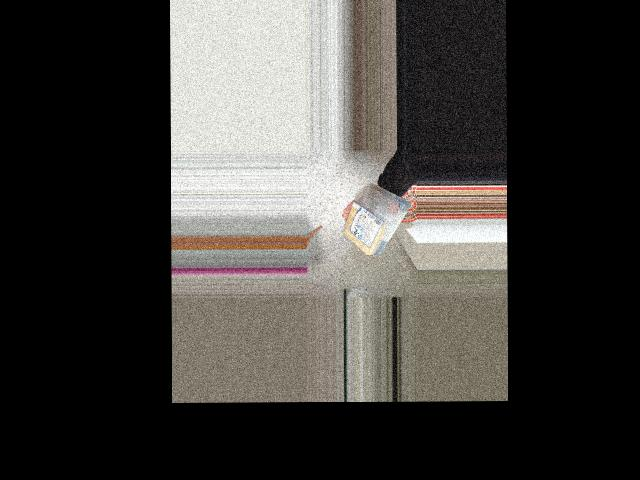cheese: (342, 184, 406, 260)
